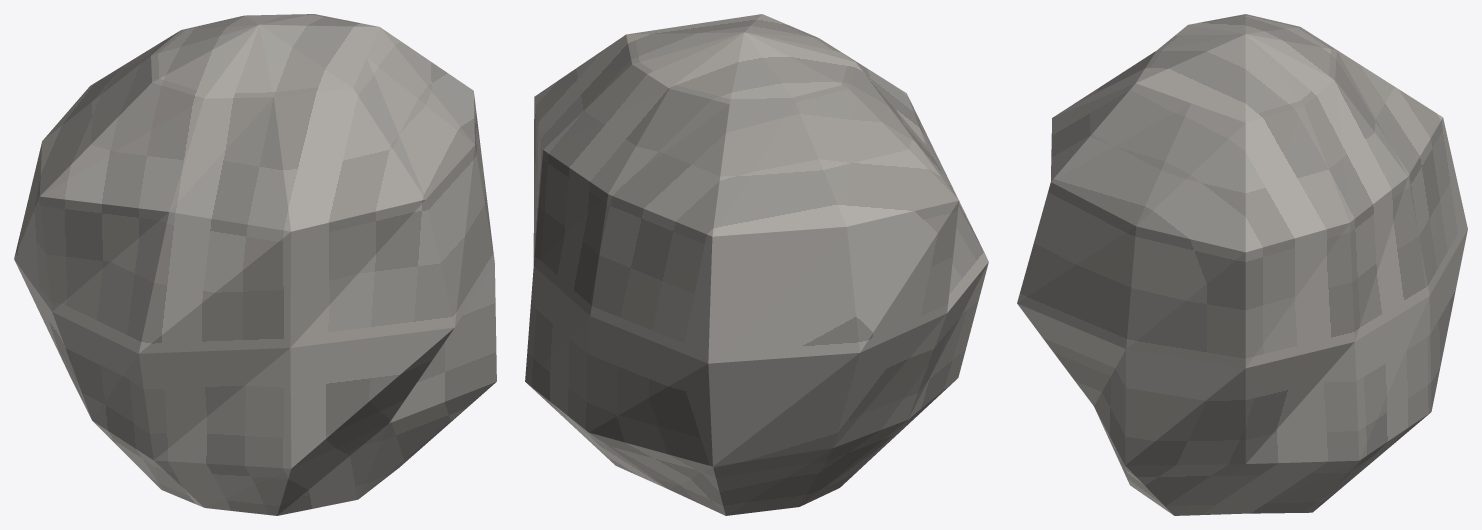
The model's file is rock_a.glb.
3 views of the same model, side by side, from view 1: azimuth 30°, elevation 25°; view 2: azimuth 150°, elevation 25°; view 3: azimuth 270°, elevation 25° (orthographic). The views are drawn at different scales.
Bounding box in the file's own units: 1.15 × 1.2 × 1.06.
Materials: 1 (1 with a texture image).
